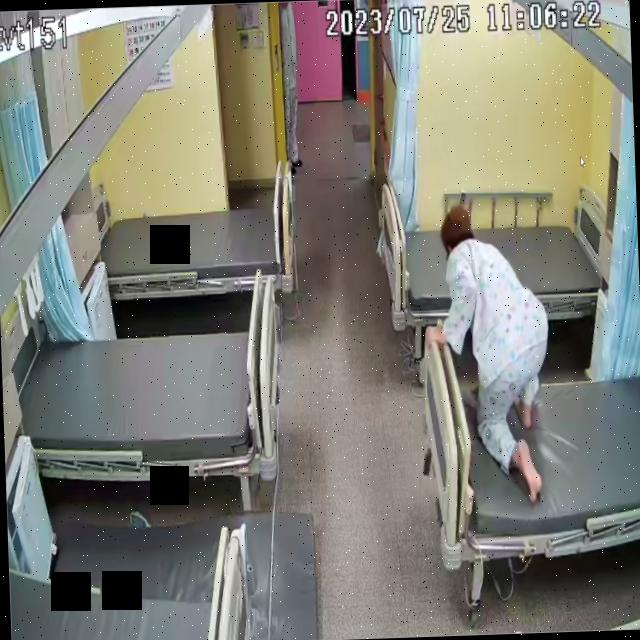bed: (420, 312, 640, 565), (14, 319, 282, 481), (378, 203, 616, 330), (101, 194, 293, 298)
danger: (423, 202, 552, 490)
patient: (423, 203, 555, 500)
